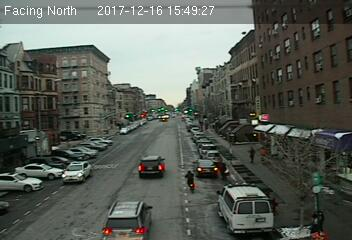bicycle: (184, 168, 196, 197)
car: (99, 200, 156, 238), (60, 161, 92, 182), (137, 156, 166, 177), (193, 159, 217, 176)
police: (216, 182, 275, 235)
